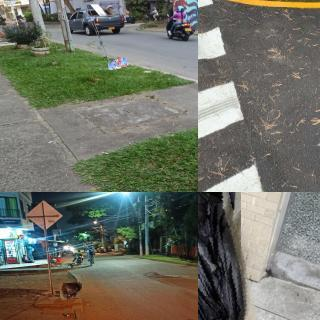Garbage: (198, 192, 250, 320), (60, 282, 82, 299), (108, 60, 123, 70), (117, 58, 127, 67), (68, 264, 75, 268)
